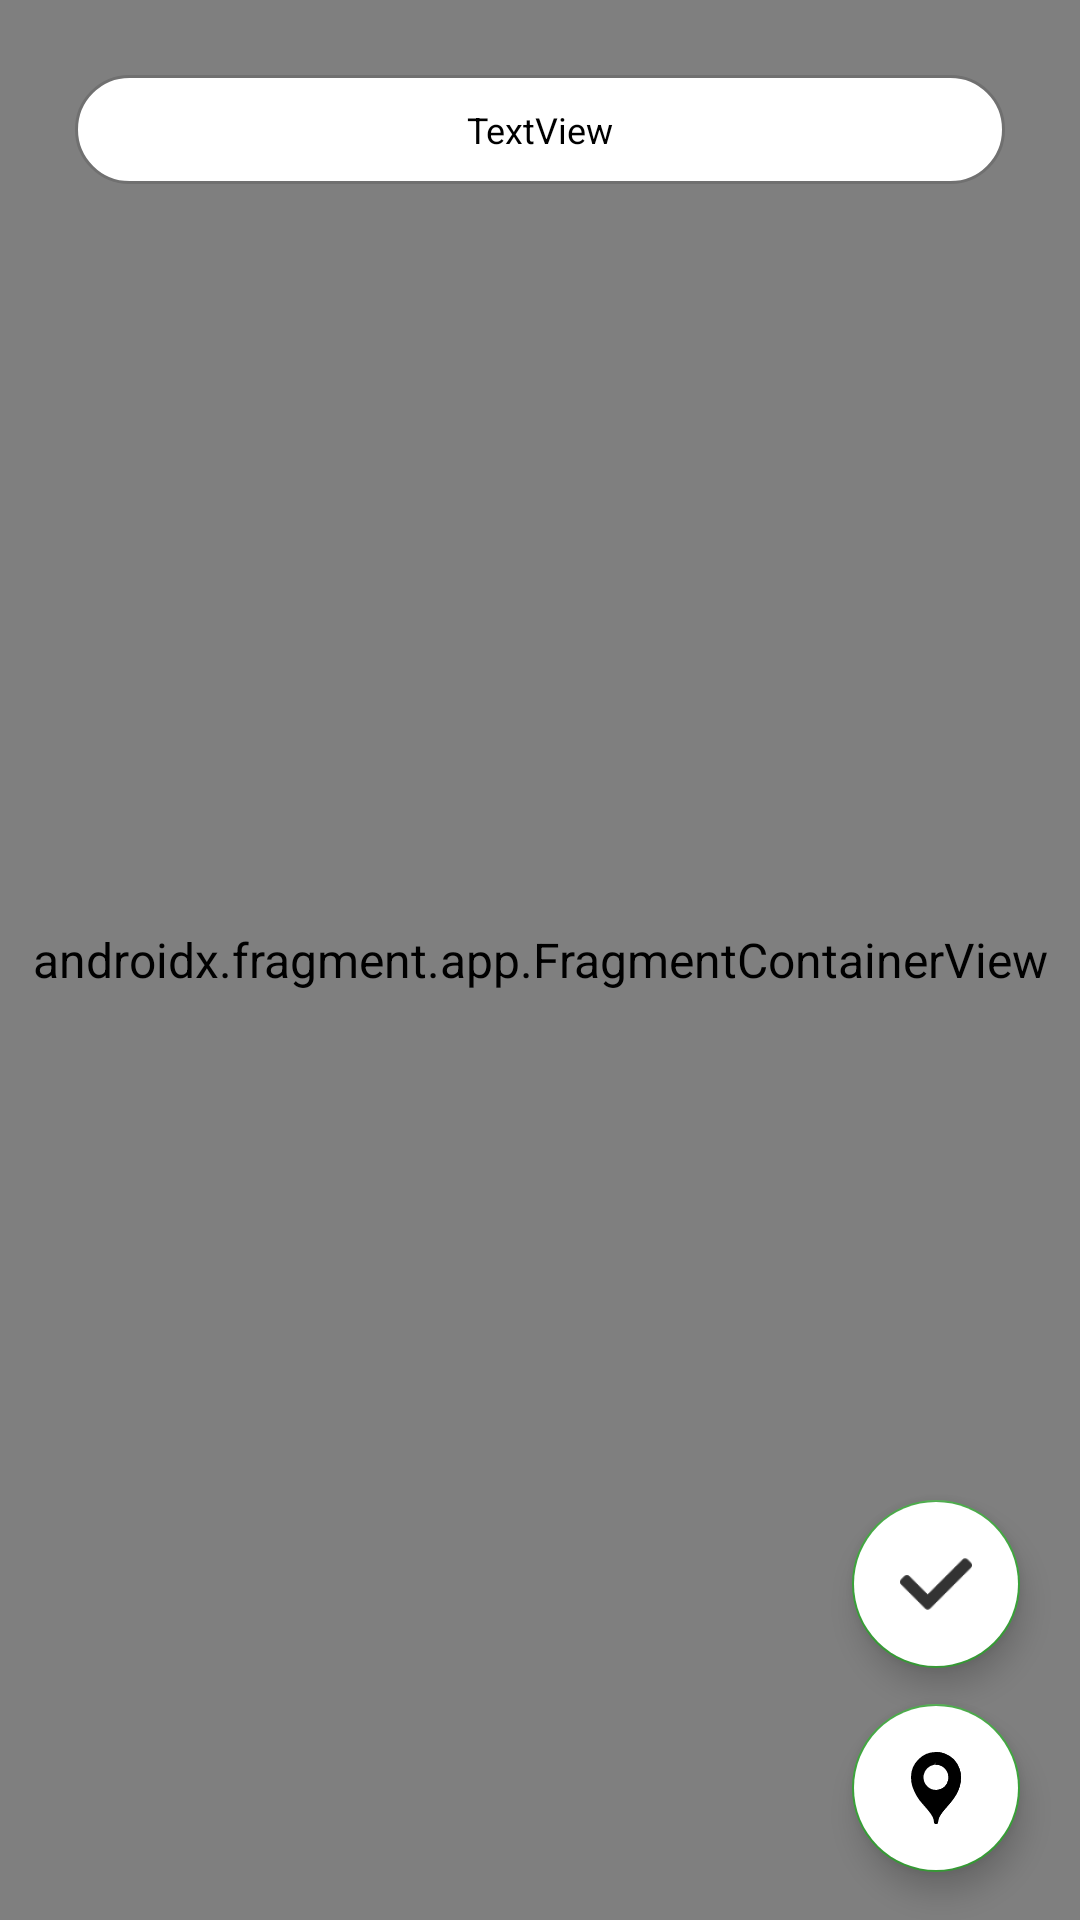

Named icons in this screenshot (1080px x 1920px) and their centers, point (x, y):
done: point (936, 1584)
location: point (936, 1788)
